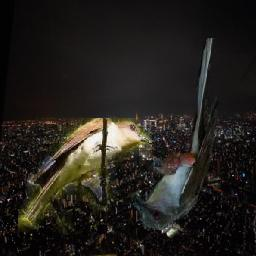Cuckoo: (131, 38, 219, 230), (18, 119, 152, 236)
